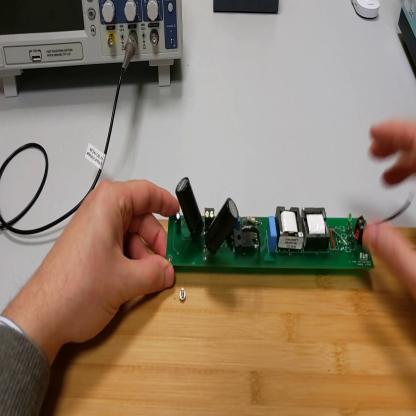hand: (43, 177, 181, 342), (363, 114, 416, 305)
high voltage board: (164, 177, 415, 280)
oscilloscope: (2, 2, 184, 98)
welder station: (397, 2, 416, 79)
working area: (42, 217, 416, 416)
